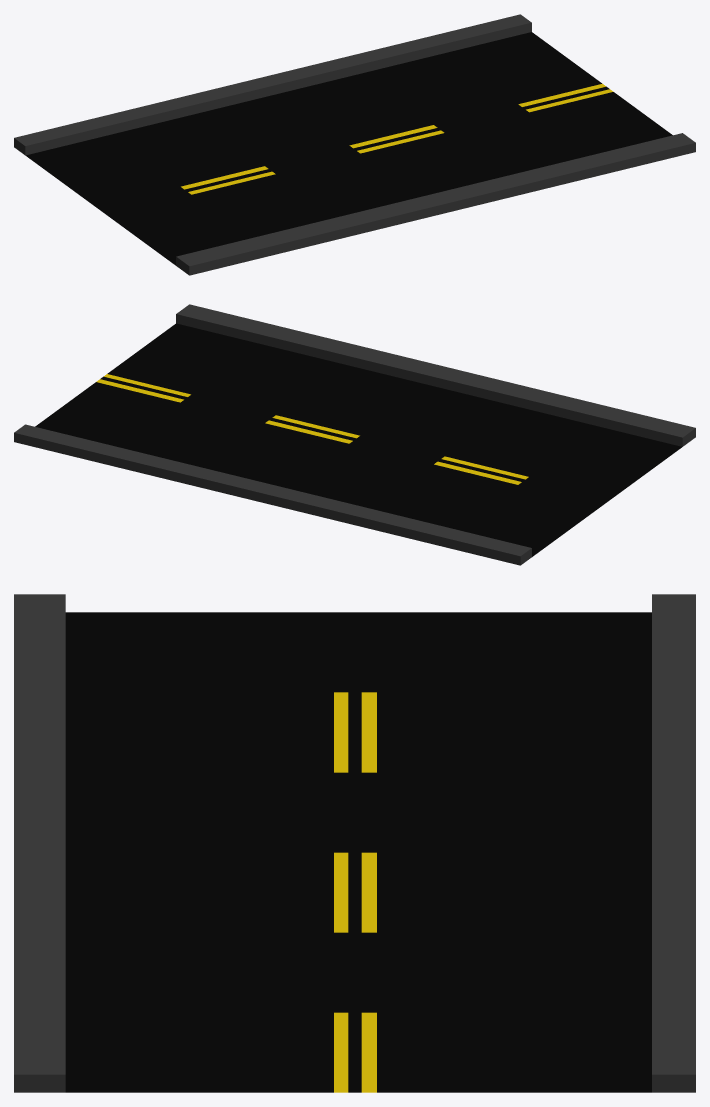
Rendered from FixedRoad.fbx.
The picture shows the model from 3 angles, top to bottom: view 1: azimuth 30°, elevation 25°; view 2: azimuth 150°, elevation 25°; view 3: azimuth 270°, elevation 25°; orthographic projection. The views are drawn at different scales.
Parts seen in each view (by area): view 1: Plane.001; view 2: Plane.001; view 3: Plane.001.
Part boxes in pixels (x1,y1,x2,y2): Plane.001: (14,14,695,275); Plane.001: (14,304,695,565); Plane.001: (14,594,695,1092).
Size of the model in its own units: 5000 by 88.11 by 3000.
